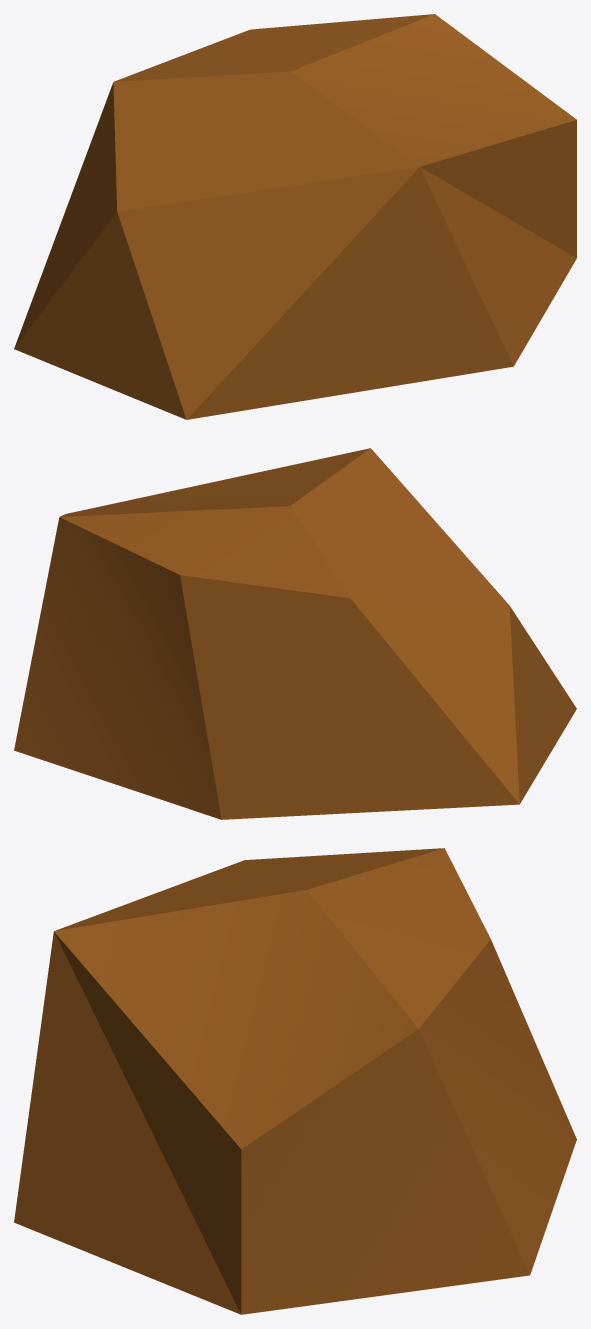
Rendered from Rock_Medium_Dirt_01.fbx.
The picture shows the model from 3 angles, top to bottom: view 1: azimuth 30°, elevation 25°; view 2: azimuth 150°, elevation 25°; view 3: azimuth 270°, elevation 25°; orthographic projection. The views are drawn at different scales.
Visible parts, largest first — view 1: Rock_Medium_Dirt_01; view 2: Rock_Medium_Dirt_01; view 3: Rock_Medium_Dirt_01.
Boxes of the visible parts, x1,y1,x2,y2 form: Rock_Medium_Dirt_01: [14, 14, 576, 419]; Rock_Medium_Dirt_01: [14, 448, 576, 819]; Rock_Medium_Dirt_01: [14, 848, 576, 1314].
Size of the model in its own units: 74.06 by 39.57 by 58.71.
